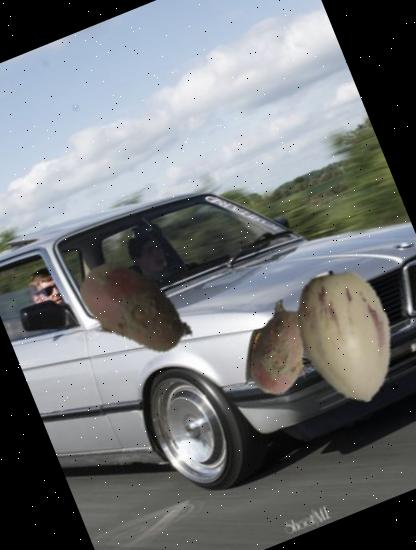Pepino: (257, 248, 416, 425)
Potato: (52, 228, 219, 396), (216, 283, 346, 412)
